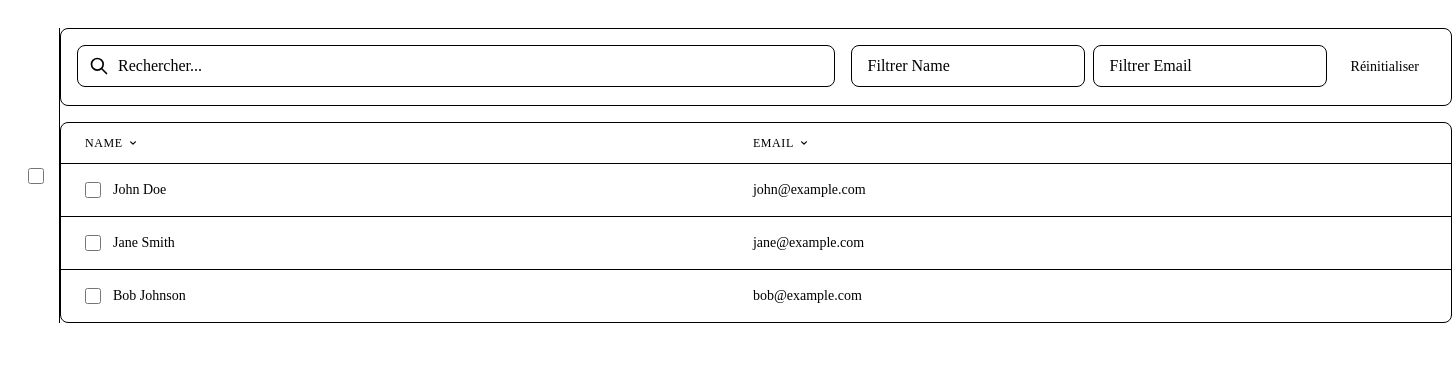
Test case: DataTableEnhanced Component › Bulk Actions › renders bulk actions when rows are selected
# Select a row first
Click the checkbox next to "John Doe": (93, 190) [85,182,101,198]
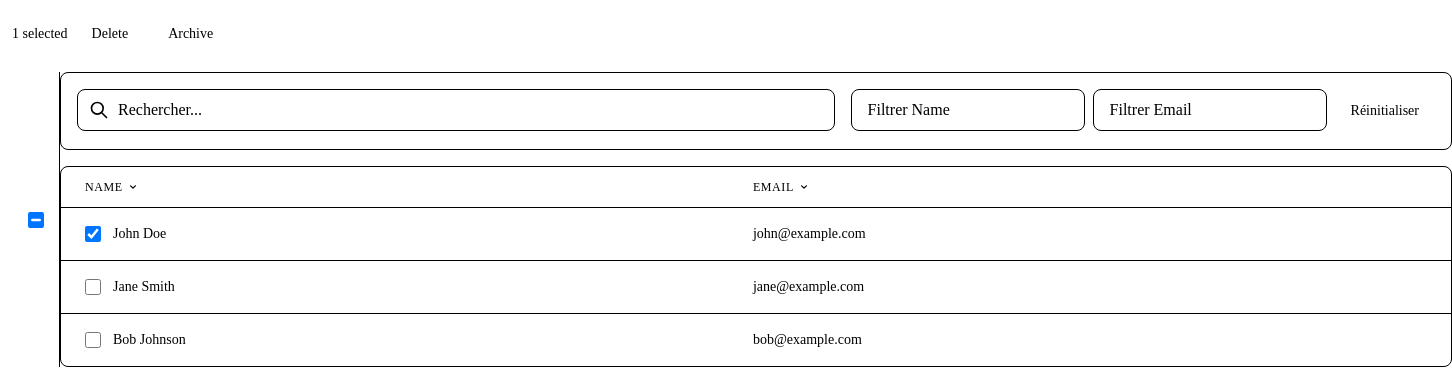
Now the button "Delete" is shown, box [76,12,144,56]
Now the button "Archive" is shown, box [152,12,229,56]
